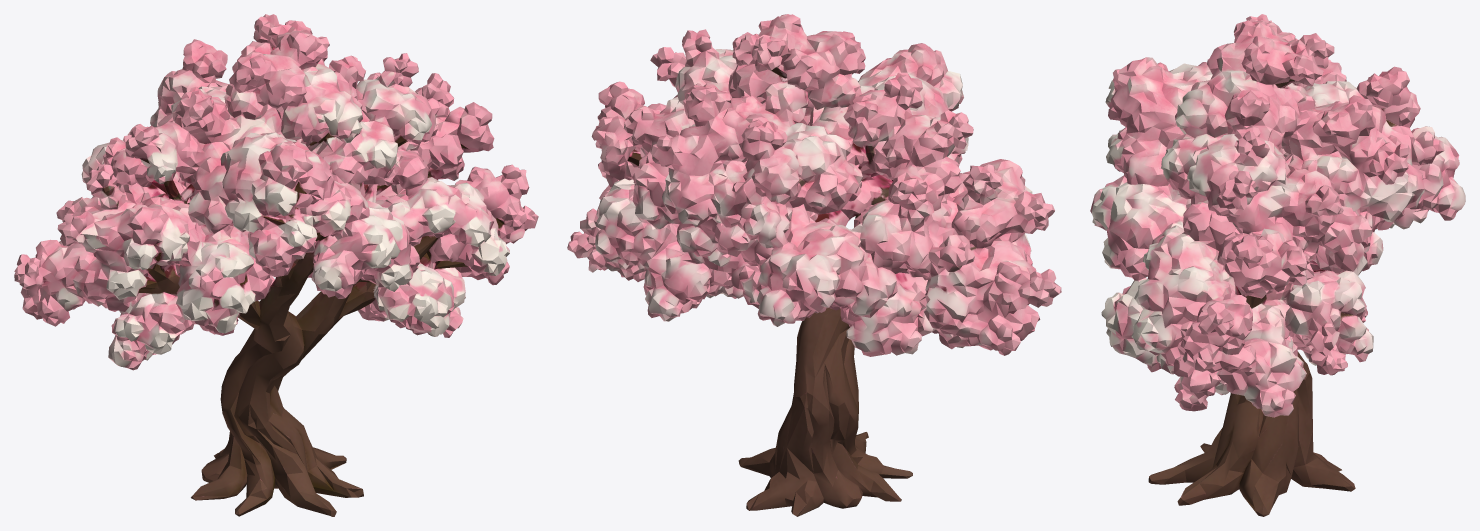
File: baum.glb
The picture shows the model from 3 angles, left to right: view 1: azimuth 30°, elevation 25°; view 2: azimuth 150°, elevation 25°; view 3: azimuth 270°, elevation 25°; orthographic projection. The views are drawn at different scales.
Size of the model in its own units: 1.89 by 1.67 by 1.24.
1 material, 1 textured.
